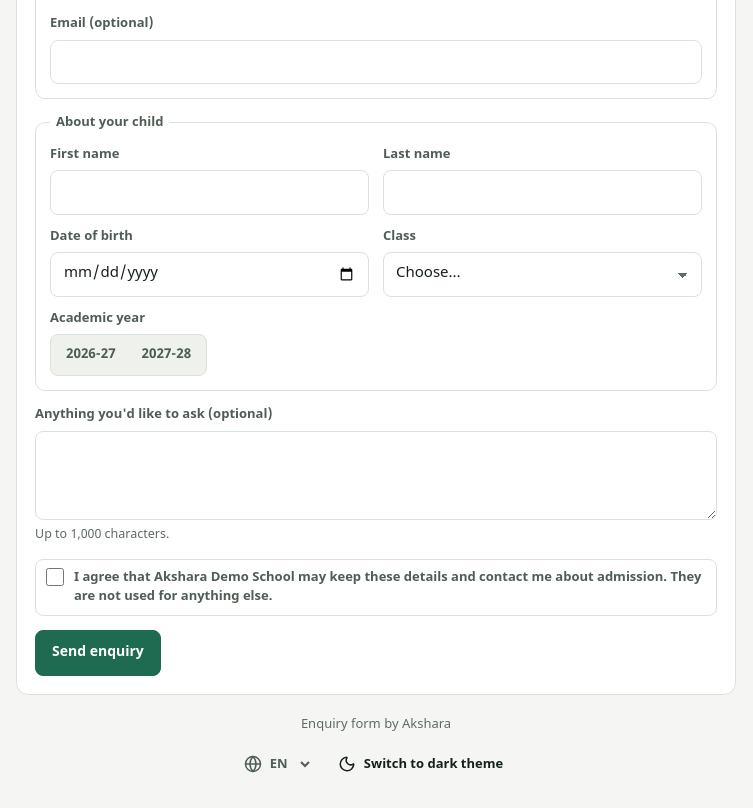
Scenario: The public enquiry page › checks the form before sending and asks for consent
The image size is (753, 808).
(page scrolled)
Click the button "Send enquiry" at (98, 653), box top-left (35, 630), bottom-right (161, 676)
(page scrolled)
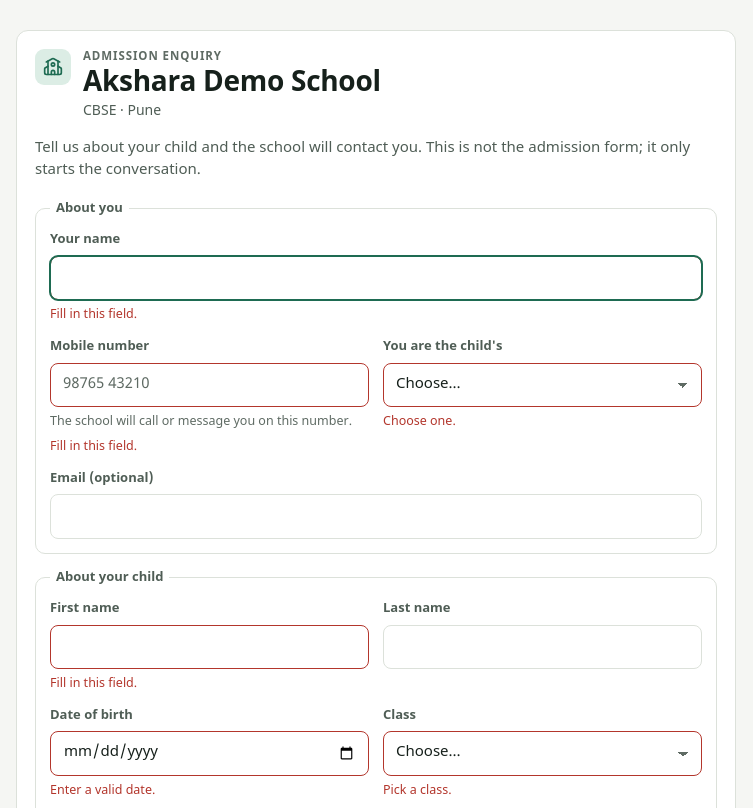
Expected: the text "Fill in this field." is shown 3 times, top-left (50, 307), bottom-right (137, 323); top-left (50, 439), bottom-right (137, 455); top-left (50, 676), bottom-right (137, 692)
Expected: the text "Choose one." is shown, top-left (383, 414), bottom-right (456, 430)
Expected: the text "Enter a valid date." is shown, top-left (50, 783), bottom-right (155, 799)
